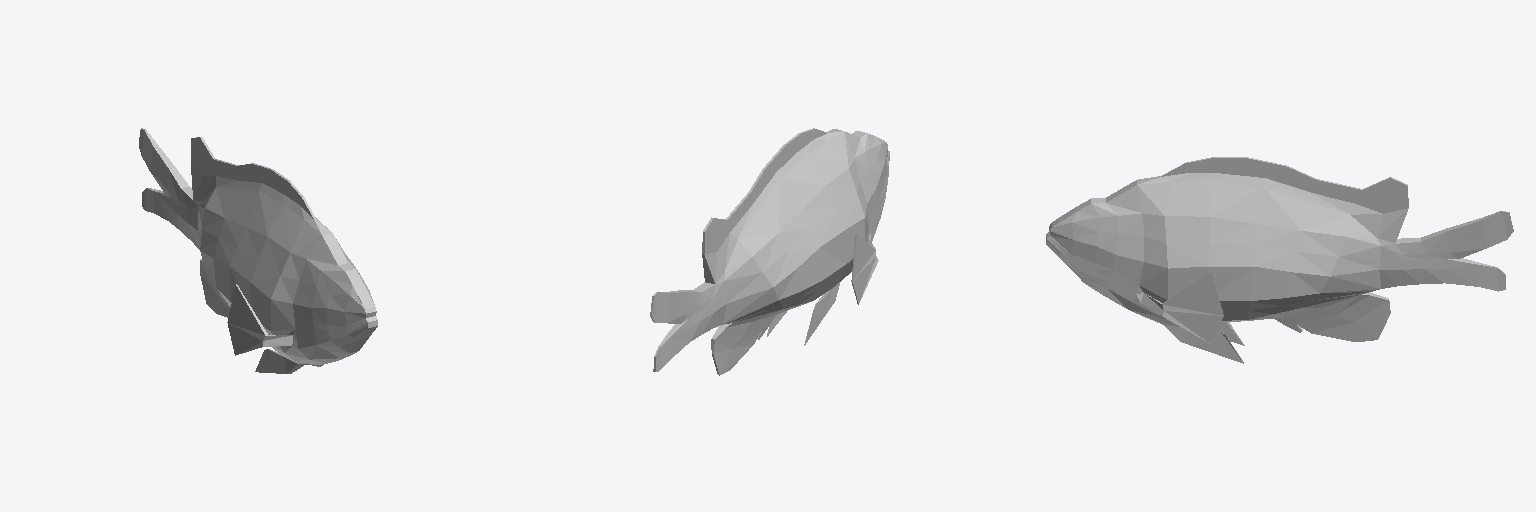
Rendered from fish7.obj.
3 renders of one model, left to right at view 1: azimuth 30°, elevation 25°; view 2: azimuth 150°, elevation 25°; view 3: azimuth 270°, elevation 25°, orthographic.
Parts seen in each view (by area): view 1: TropicalFish07:TropicalFish07; view 2: TropicalFish07:TropicalFish07; view 3: TropicalFish07:TropicalFish07.
Part boxes in pixels (x1,y1,x2,y2): TropicalFish07:TropicalFish07: (139, 128, 377, 373); TropicalFish07:TropicalFish07: (650, 128, 889, 375); TropicalFish07:TropicalFish07: (1046, 157, 1513, 363).
Bounding box in the file's own units: 1.81 × 3.03 × 6.48.